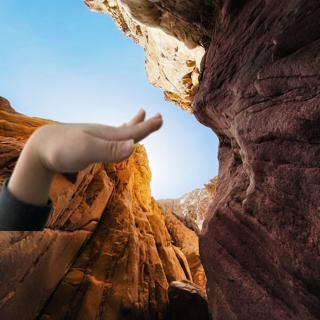Wait: (15, 107, 165, 179)
